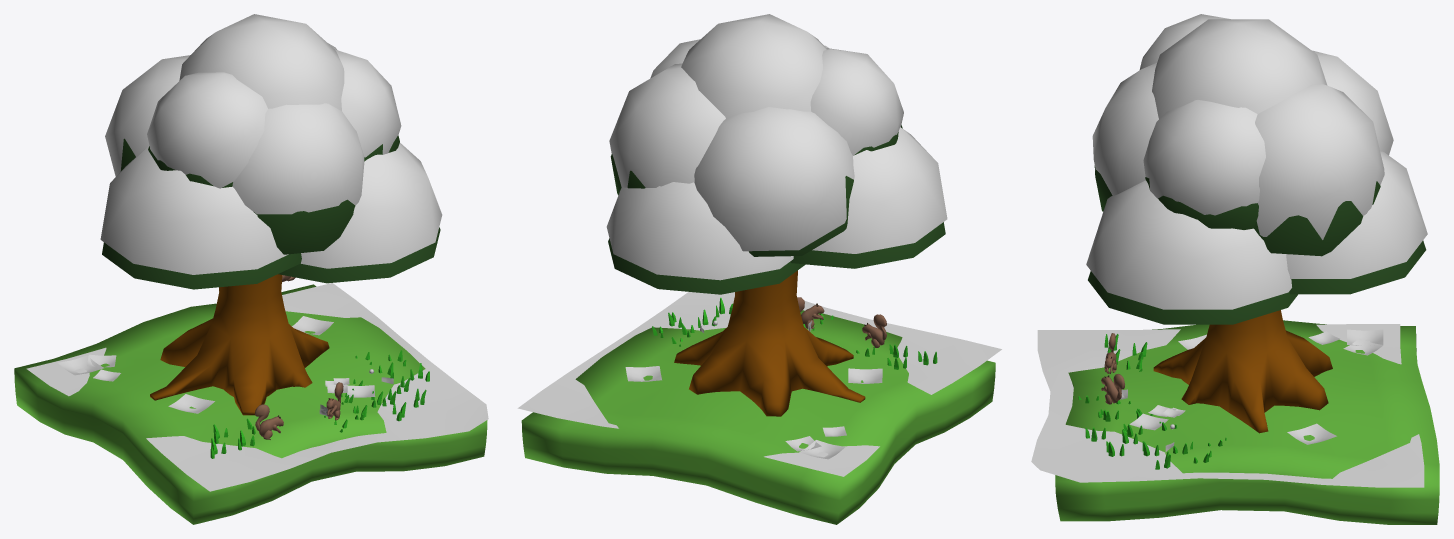
The model's file is Bosque03.glb.
3 views of the same model, side by side, from view 1: azimuth 30°, elevation 25°; view 2: azimuth 150°, elevation 25°; view 3: azimuth 270°, elevation 25° (orthographic). The views are drawn at different scales.
Visible parts, largest first — view 1: Icosphere.000_Icosphere.000, Cube.056, Cube.004, Cylinder_Cylinder.002, Icosphere.000_Icosphere.010, Icosphere.002_Icosphere.000, Plane.020_Plane.009, Cube.057; view 2: Icosphere.000_Icosphere.000, Cube.056, Icosphere.002_Icosphere.000, Cylinder_Cylinder.002, Cube.004, Icosphere.000_Icosphere.010, Icosphere.002_Icosphere.012; view 3: Icosphere.000_Icosphere.000, Cube.056, Cube.004, Cylinder_Cylinder.002, Icosphere.000_Icosphere.010, Icosphere.002_Icosphere.000, Cube.057, Plane.011, Plane.020_Plane.025, Plane.012.
Boxes of the visible parts, bbox=[...] form: Icosphere.000_Icosphere.000: bbox=[100, 14, 442, 274]; Cube.056: bbox=[14, 284, 487, 524]; Cube.004: bbox=[26, 283, 488, 491]; Cylinder_Cylinder.002: bbox=[150, 274, 329, 415]; Icosphere.000_Icosphere.010: bbox=[102, 135, 440, 289]; Icosphere.002_Icosphere.000: bbox=[105, 55, 190, 176]; Plane.020_Plane.009: bbox=[255, 404, 283, 439]; Cube.057: bbox=[382, 376, 426, 421]; Icosphere.000_Icosphere.000: bbox=[606, 14, 947, 280]; Cube.056: bbox=[521, 310, 995, 524]; Icosphere.002_Icosphere.000: bbox=[694, 107, 854, 251]; Cylinder_Cylinder.002: bbox=[674, 270, 865, 416]; Cube.004: bbox=[517, 292, 1001, 476]; Icosphere.000_Icosphere.010: bbox=[608, 125, 945, 294]; Icosphere.002_Icosphere.012: bbox=[749, 176, 853, 256]; Icosphere.000_Icosphere.000: bbox=[1086, 14, 1427, 309]; Cube.056: bbox=[1055, 320, 1439, 524]; Cube.004: bbox=[1031, 324, 1424, 487]; Cylinder_Cylinder.002: bbox=[1153, 310, 1332, 433]; Icosphere.000_Icosphere.010: bbox=[1088, 165, 1426, 324]; Icosphere.002_Icosphere.000: bbox=[1312, 50, 1393, 155]; Cube.057: bbox=[1085, 427, 1159, 456]; Plane.011: bbox=[1287, 423, 1336, 444]; Plane.020_Plane.025: bbox=[1101, 374, 1124, 404]; Plane.012: bbox=[1347, 329, 1383, 345].
Size of the model in its own units: 4.64 by 5.59 by 4.83.
